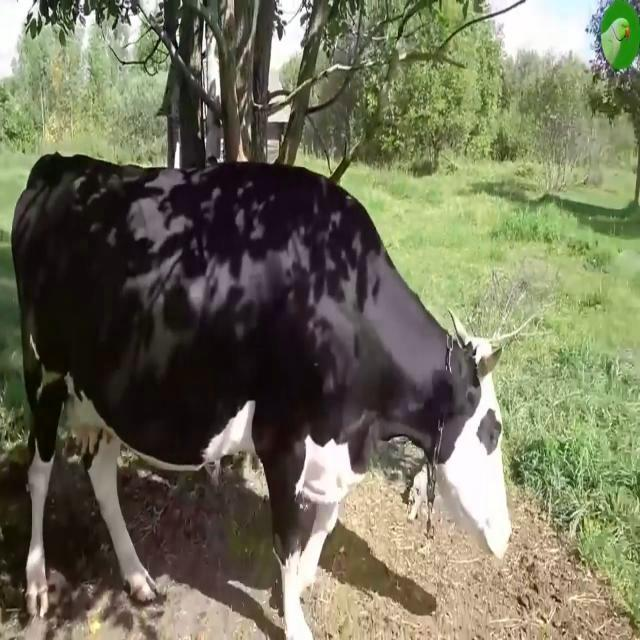cow: (12, 154, 511, 639)
